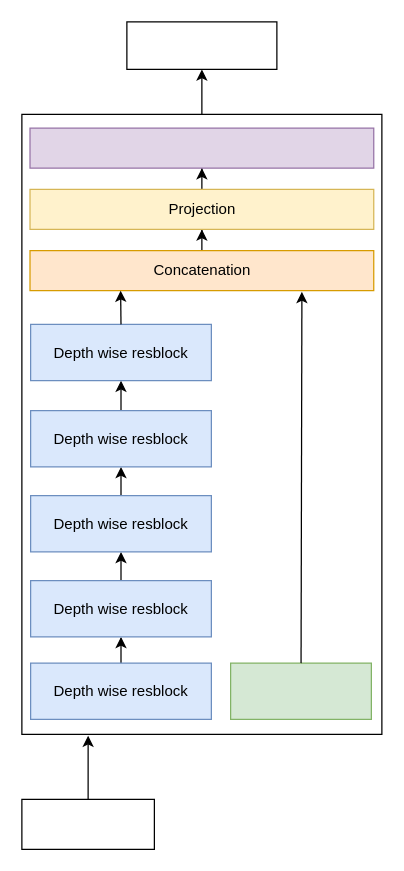
This 404x871 diagram has some shape labels left out. Each missing label, with the centre of its shape:
"Embedding" goes at [201,45].
"Heatmap extraction x4" goes at [300,690].
"input" goes at [87,823].
"Layer normalisation" goes at [201,147].
